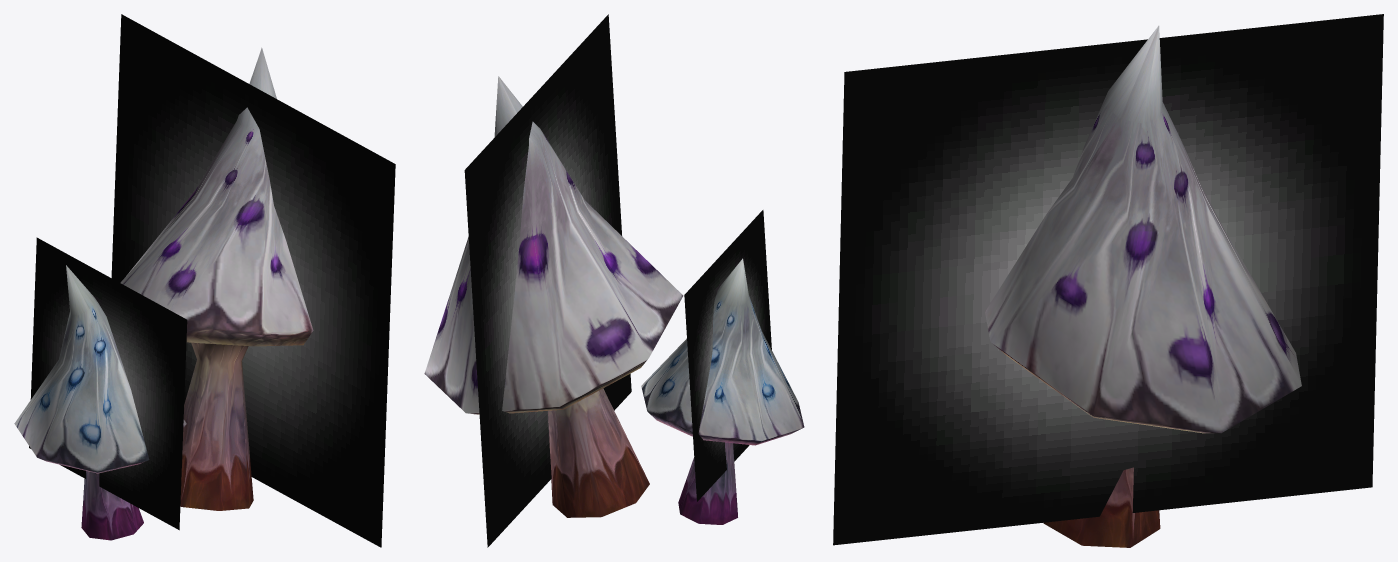
Rendered from azjol_mushroom02.obj.
The picture shows the model from 3 angles, left to right: view 1: azimuth 30°, elevation 25°; view 2: azimuth 150°, elevation 25°; view 3: azimuth 270°, elevation 25°; orthographic projection. The views are drawn at different scales.
Parts seen in each view (by area): view 1: Geoset1, Geoset0, Geoset2; view 2: Geoset0, Geoset1, Geoset2; view 3: Geoset1, Geoset0.
Boxes of the visible parts, left/top/right/bottom form: Geoset1: left=111, top=14, right=395, bottom=547; Geoset0: left=14, top=47, right=313, bottom=540; Geoset2: left=29, top=237, right=187, bottom=530; Geoset0: left=424, top=76, right=804, bottom=524; Geoset1: left=464, top=14, right=631, bottom=547; Geoset2: left=684, top=210, right=771, bottom=501; Geoset1: left=833, top=14, right=1383, bottom=545; Geoset0: left=985, top=25, right=1301, bottom=547.
Bounding box in the file's own units: 0.4169 × 0.5141 × 0.4666.
2 materials, 2 textured.
